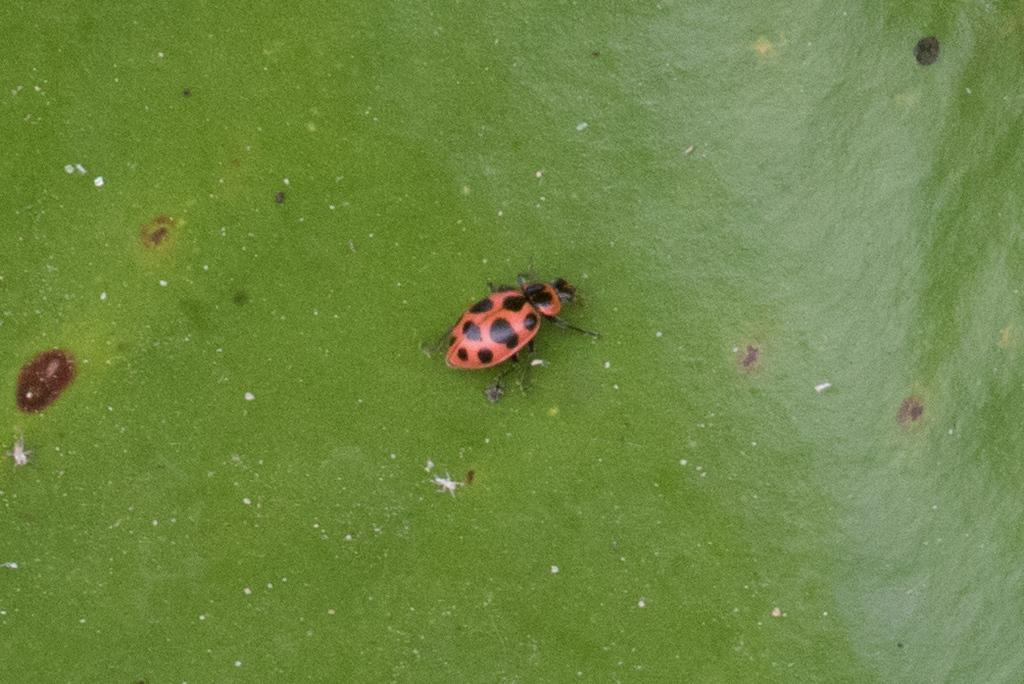ladybug: (423, 271, 605, 404)
